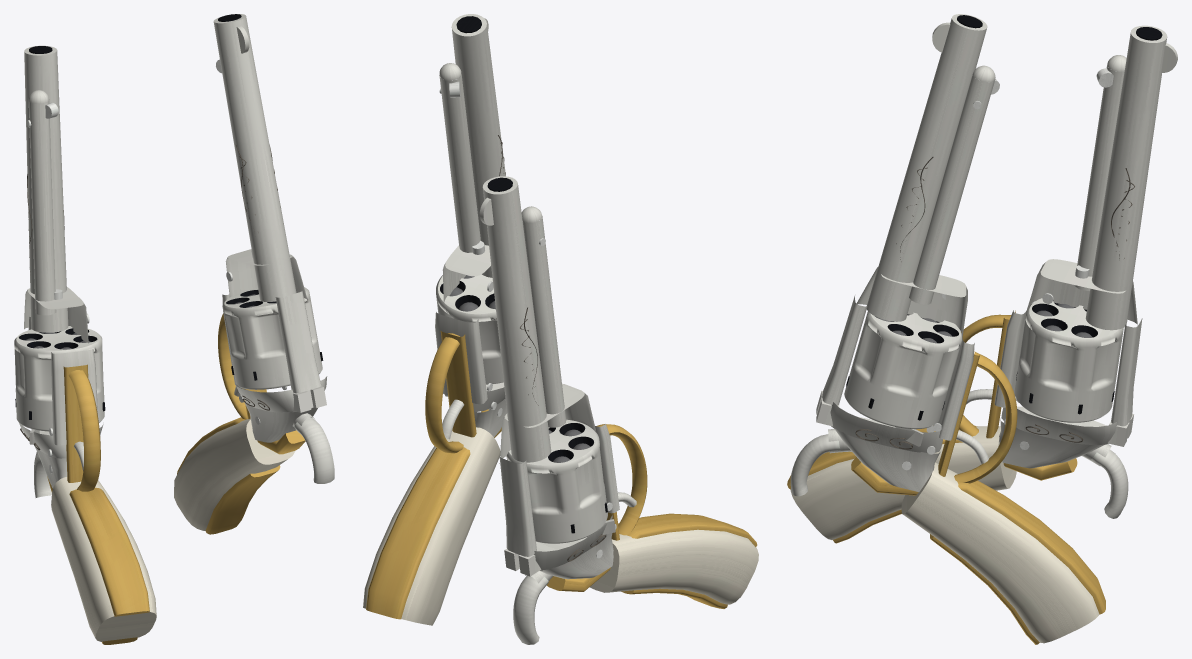
The model's file is gun.engraved-ivory.glb.
3 renders of one model, left to right at view 1: azimuth 30°, elevation 25°; view 2: azimuth 150°, elevation 25°; view 3: azimuth 270°, elevation 25°, orthographic. The views are drawn at different scales.
Parts seen in each view (by area): view 1: revolver (×2); view 2: revolver (×2); view 3: revolver (×2).
Boxes of the visible parts, box(x1,y1,x2,y2) form: revolver (×2): box(14, 14, 334, 644); revolver (×2): box(363, 14, 758, 644); revolver (×2): box(787, 14, 1177, 644).
Size of the model in its own units: 0.1616 by 0.3355 by 0.1944.
Materials: 1 (1 with a texture image).
